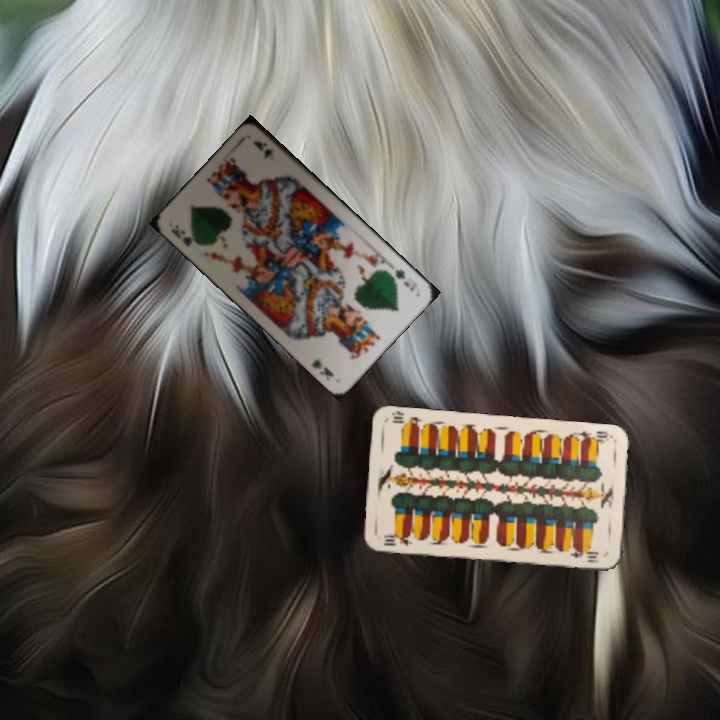E10: (575, 427, 615, 446), (380, 530, 415, 548)
GK: (390, 265, 420, 294), (167, 225, 195, 249)
